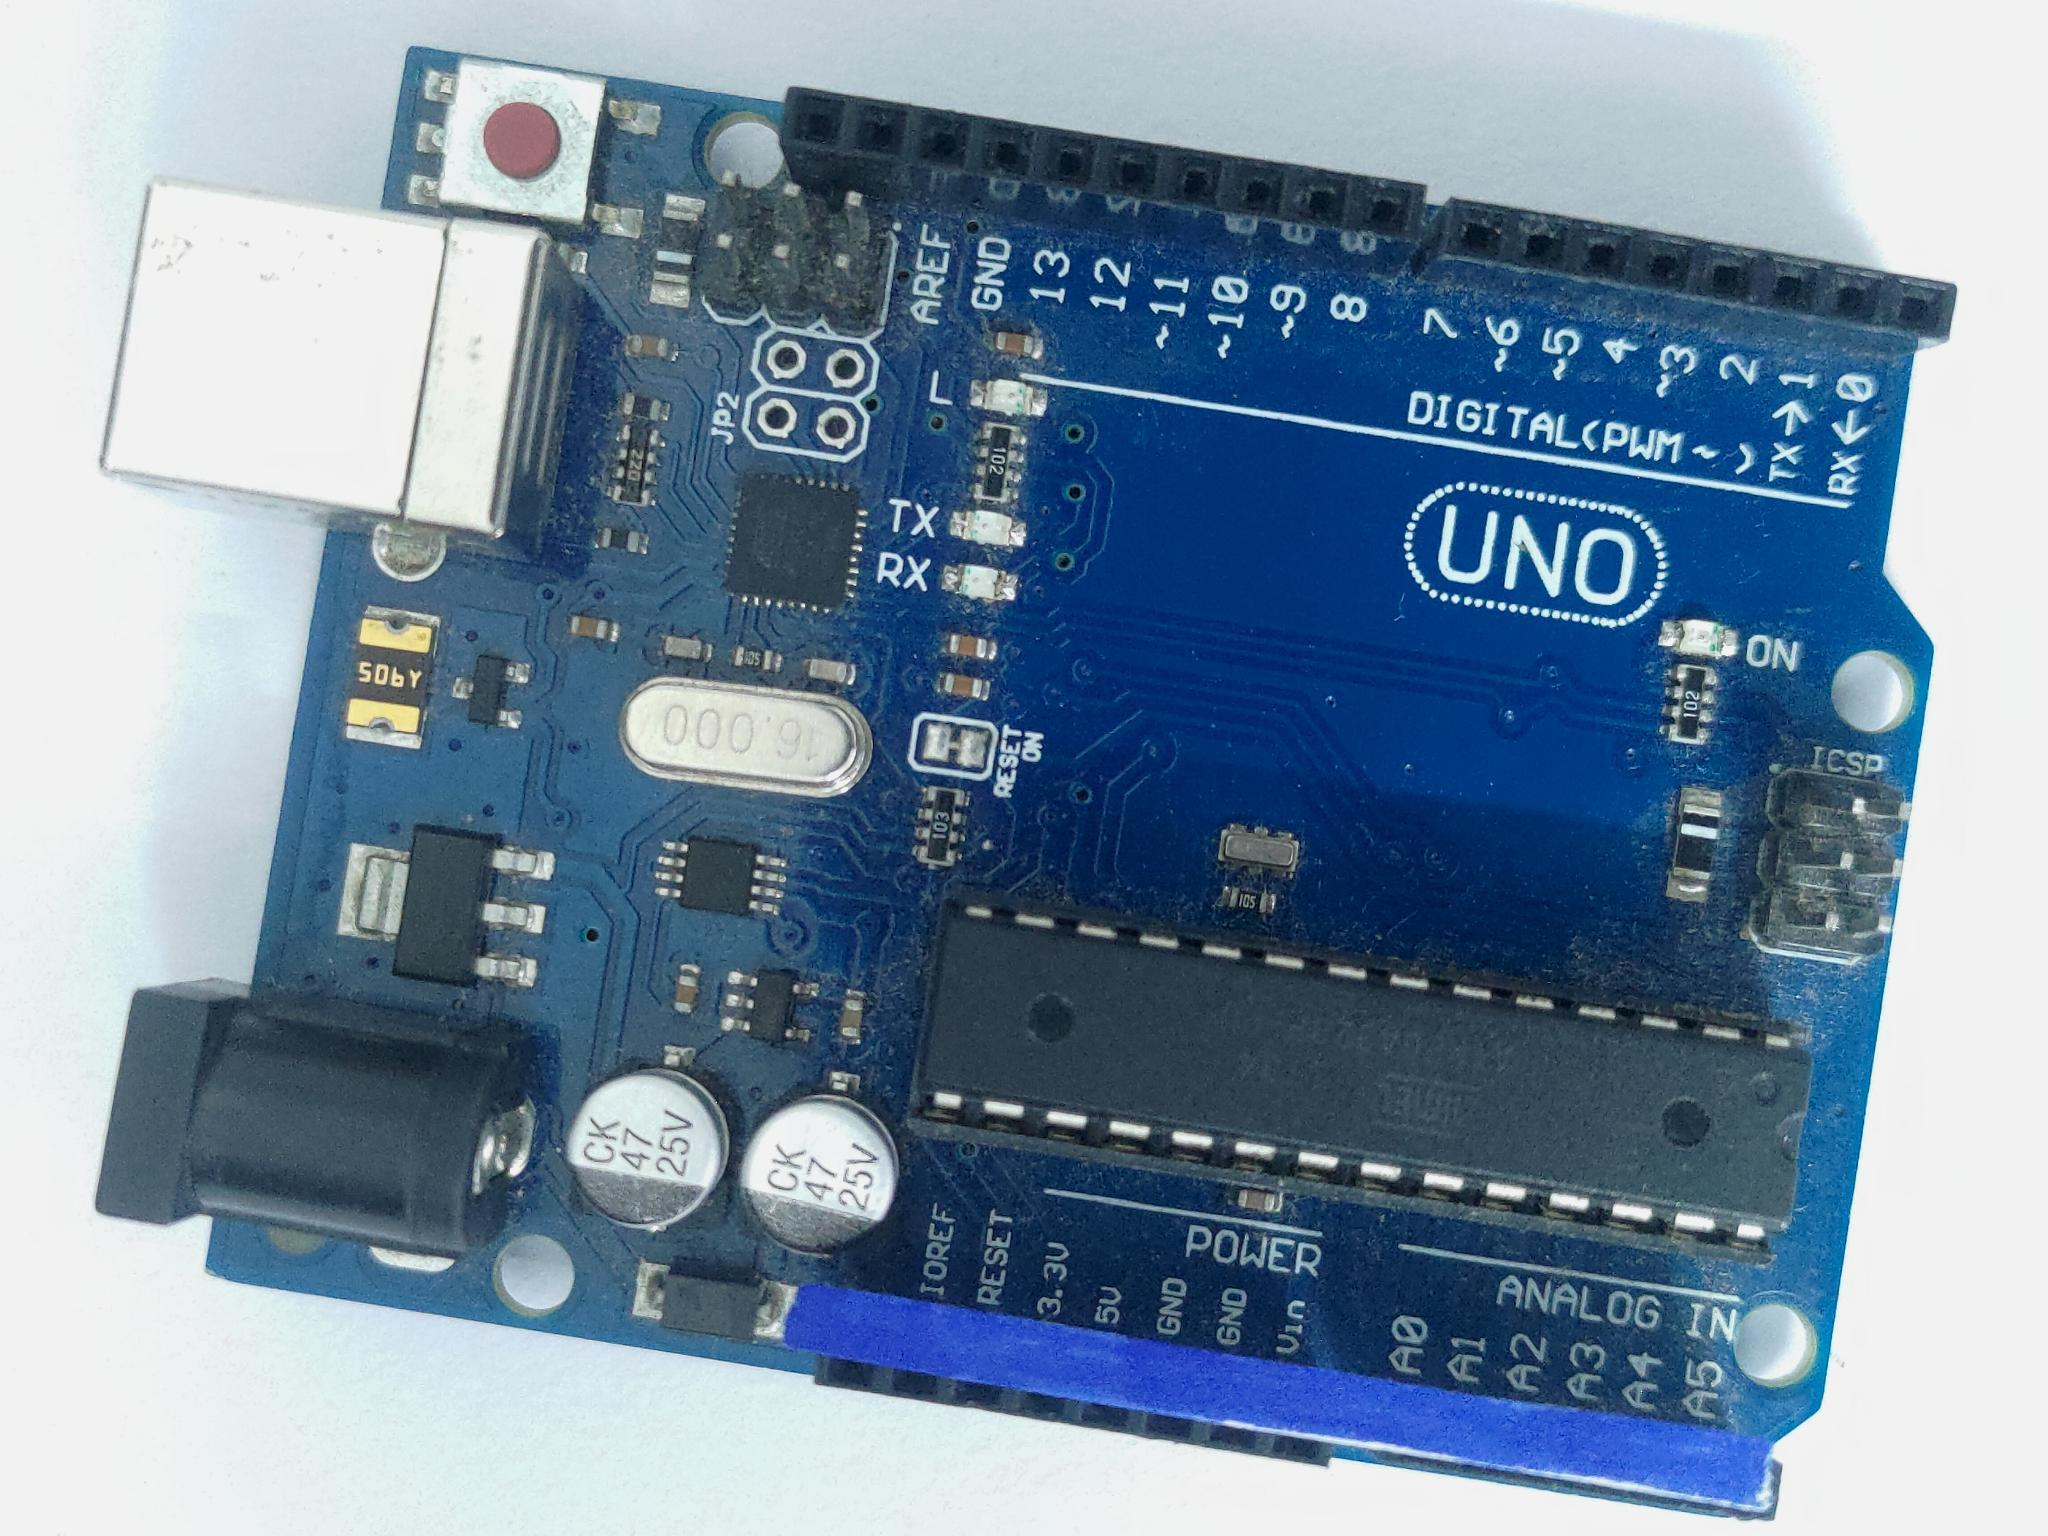16MHz Crystal Oscillator: (619, 676, 872, 795)
5V Regulator: (392, 824, 497, 987)
ATmega328P MC: (916, 904, 1813, 1249)
CK47Capacitor: (568, 1068, 727, 1228), (740, 1096, 900, 1252)
Connecting Pins: (780, 89, 1956, 344)
Connecting Pins Missing: (789, 1284, 1775, 1517)
DC Power Port: (97, 979, 532, 1255)
LED: (1659, 620, 1740, 660), (948, 508, 1027, 549), (940, 565, 1021, 603), (968, 381, 1048, 416)
LM358: (681, 836, 756, 916)
Poly Fuse: (343, 608, 440, 749)
Reset Button: (440, 60, 605, 224)
USB Connector: (103, 181, 581, 549)
USB-TTL Converter: (724, 476, 860, 611)
